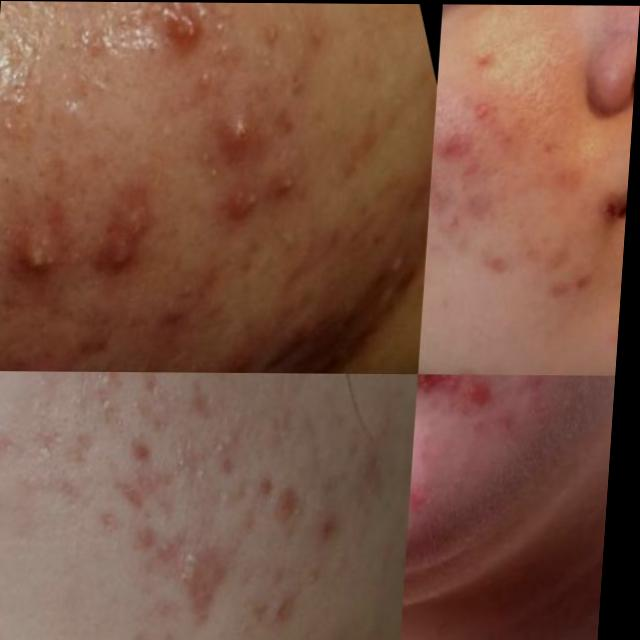8: (164, 523, 255, 625), (141, 285, 211, 340), (433, 110, 488, 174), (460, 373, 532, 420), (268, 477, 321, 539), (122, 424, 170, 481), (216, 337, 279, 372), (10, 351, 67, 371)
9: (219, 102, 267, 172)
blackheads: (130, 1, 217, 79), (0, 208, 77, 296), (92, 193, 168, 278), (117, 454, 192, 523), (538, 263, 605, 309), (464, 238, 519, 293), (95, 396, 144, 449), (66, 427, 108, 483), (420, 372, 473, 416), (273, 590, 312, 640), (132, 523, 168, 559)
